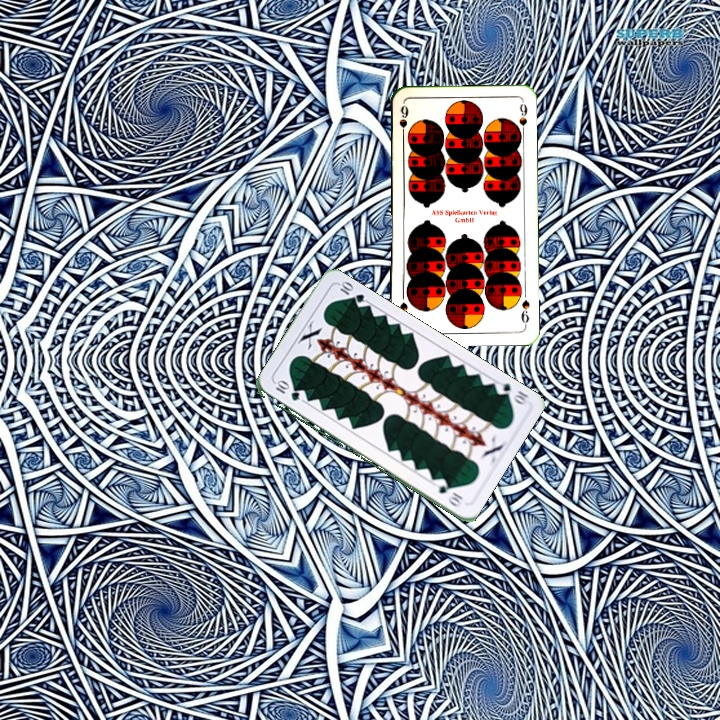G10: (491, 377, 531, 407), (271, 378, 302, 404)
S9: (395, 101, 411, 142), (517, 296, 532, 329)
